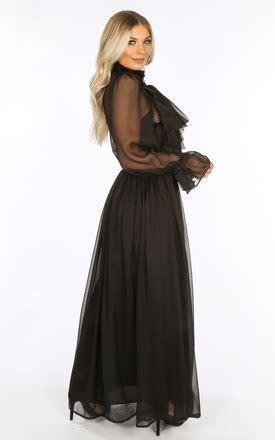dress: (68, 61, 200, 437)
